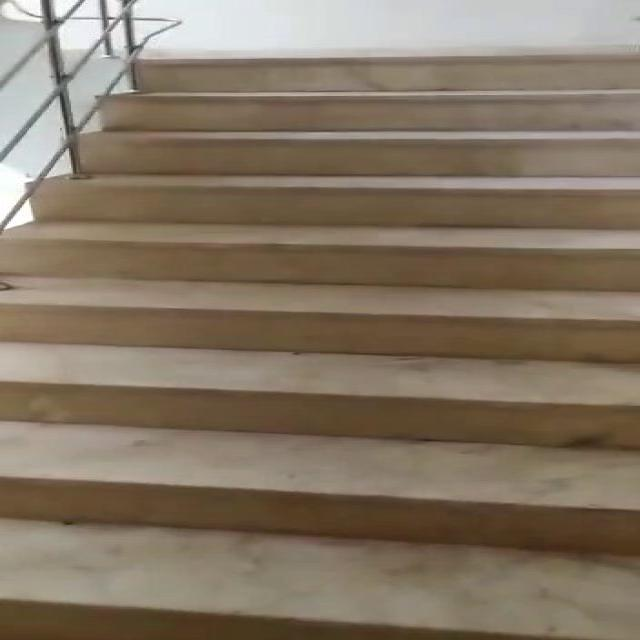stairs: (0, 46, 638, 639)
